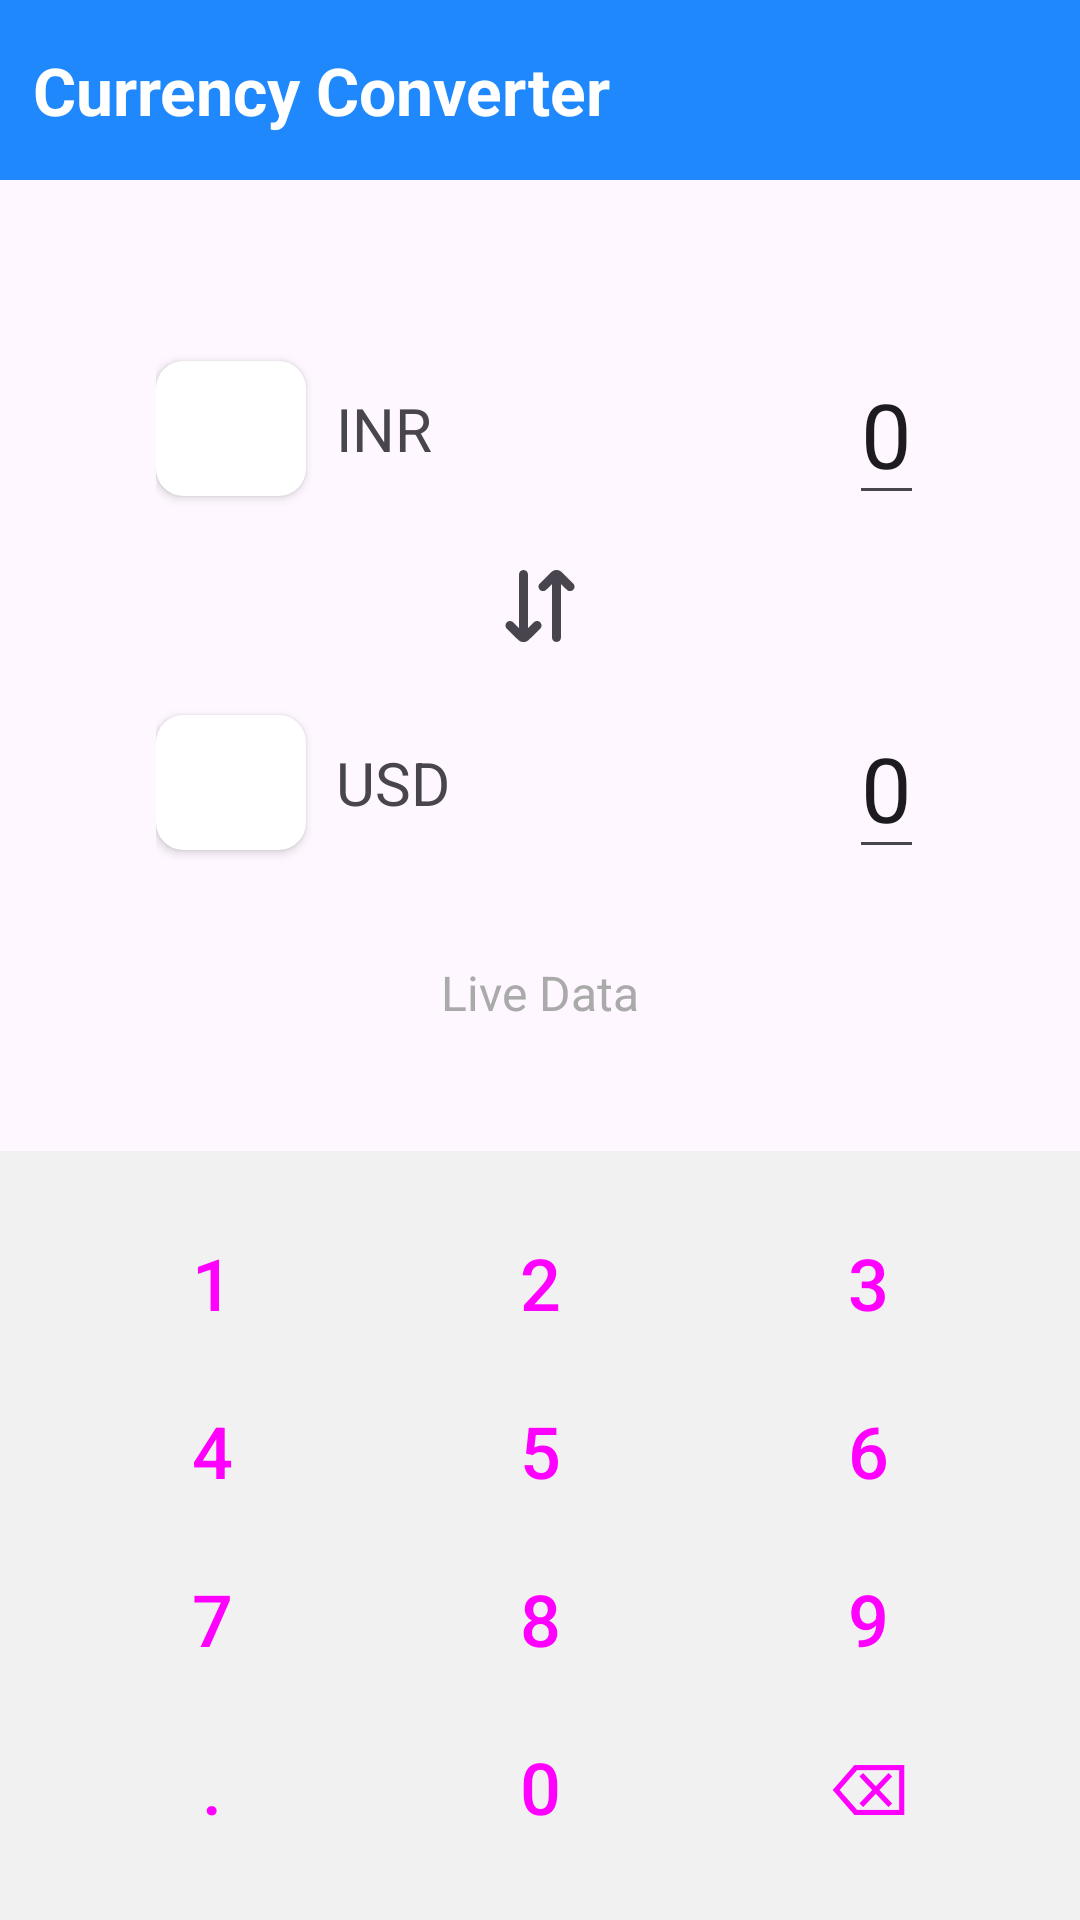

Icon bounding boxes for this 1080 × 1920 phone screenshot, format (x1, y1, x2, y2):
switchbtn: (505, 570, 575, 642)
